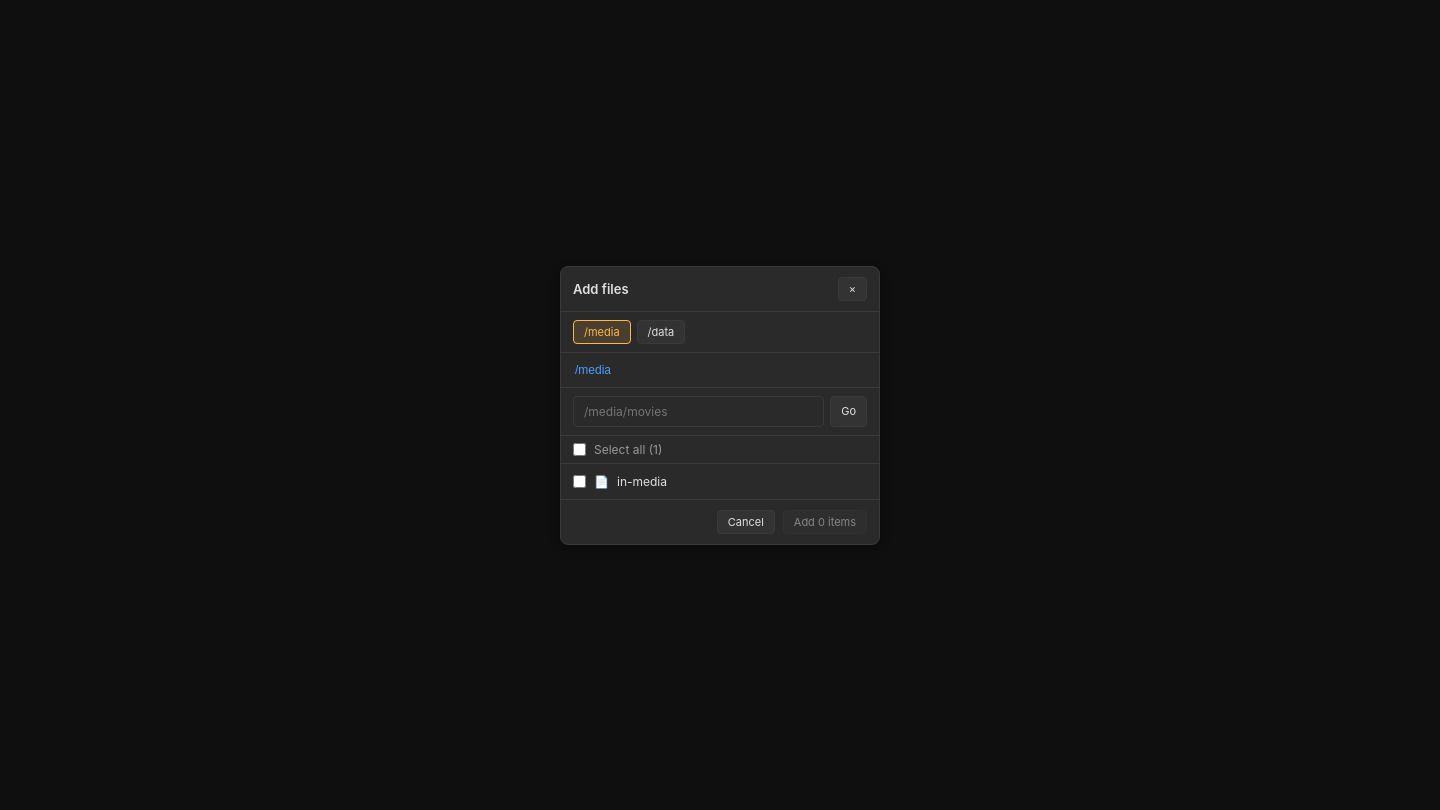
Scenario: FileBrowserModal › offers every configured root when a deployment has more than one
expect the text "in-media" is shown: met, box x1=617 y1=474 x2=667 y2=488
Click the button "/data": (661, 332) x1=637 y1=320 x2=685 y2=344
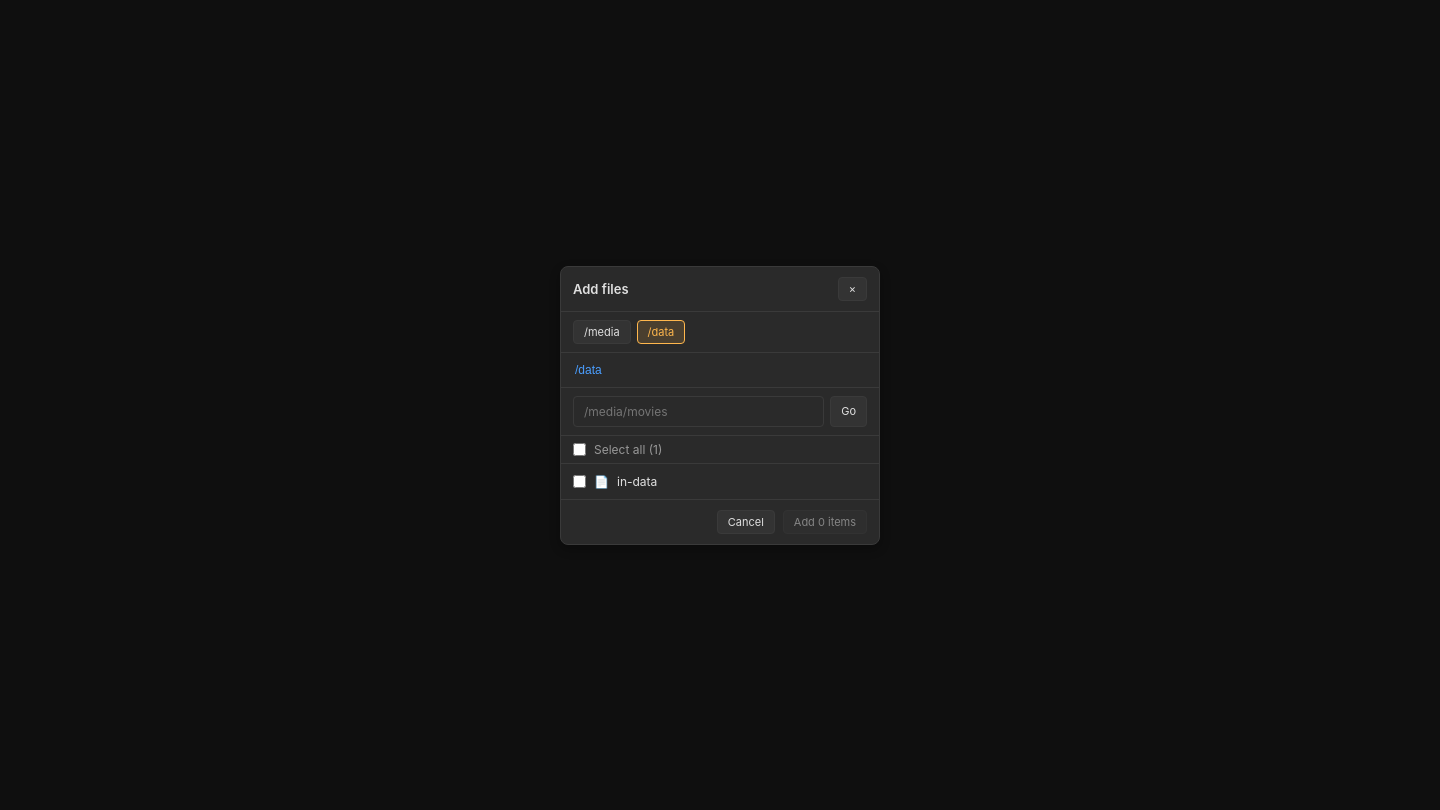
expect the text "in-data" is shown: met, box x1=617 y1=474 x2=657 y2=488
